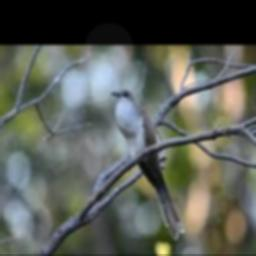Cuckoo: (109, 87, 184, 239)
